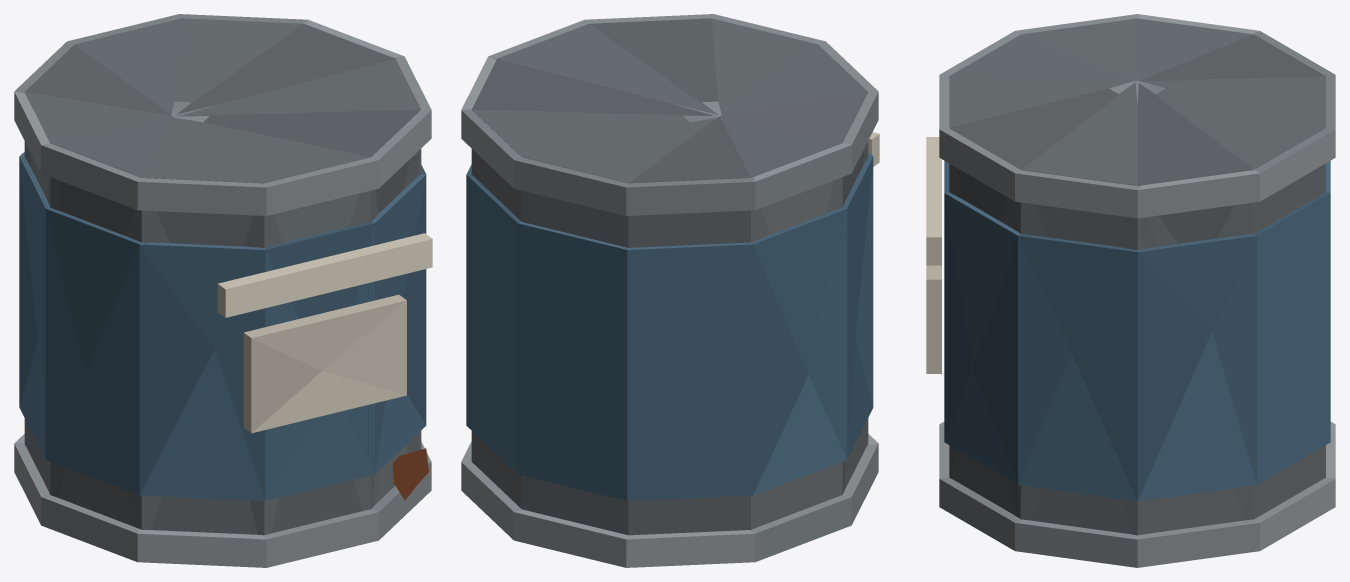
The model's file is food_canned_sguschenka_idle.glb.
The picture shows the model from 3 angles, left to right: view 1: azimuth 30°, elevation 25°; view 2: azimuth 150°, elevation 25°; view 3: azimuth 270°, elevation 25°; orthographic projection.
Parts seen in each view (by area): view 1: food_canned_sguschenka_idle; view 2: food_canned_sguschenka_idle; view 3: food_canned_sguschenka_idle.
Boxes of the visible parts, x1,y1,x2,y2 form: food_canned_sguschenka_idle: (14, 14, 432, 567); food_canned_sguschenka_idle: (461, 14, 879, 567); food_canned_sguschenka_idle: (926, 14, 1335, 567).
Bounding box in the file's own units: 0.08 × 0.08 × 0.082.
1 material, 1 textured.
